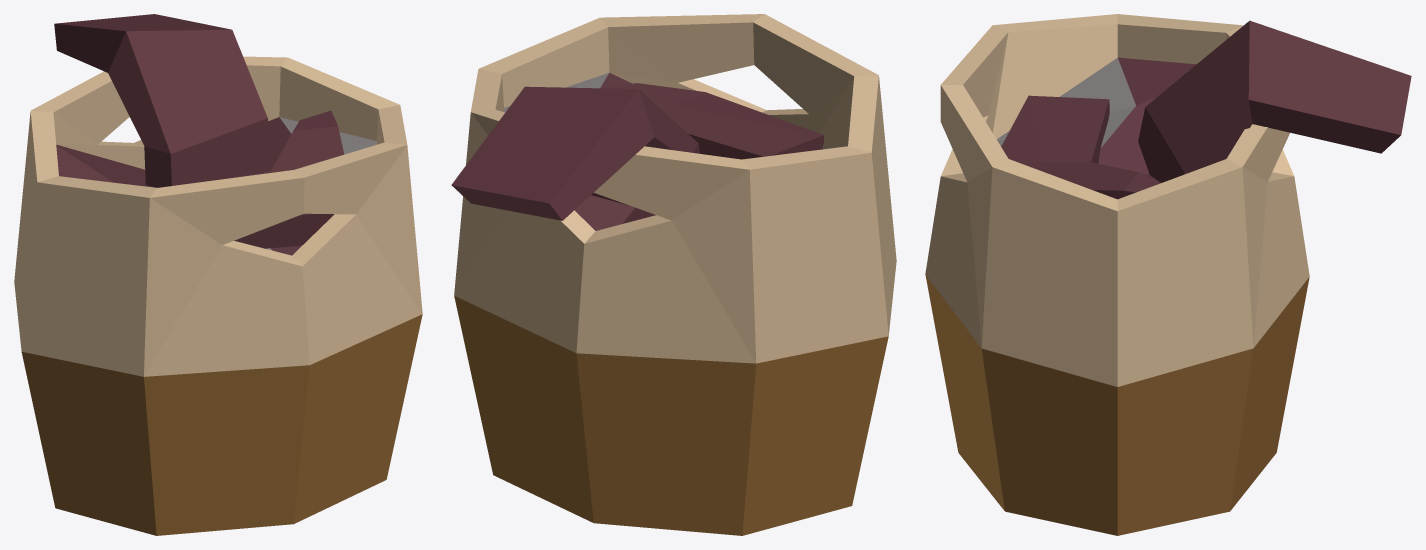
File: bag-storage-clothes.fbx
3 views of the same model, side by side, from view 1: azimuth 30°, elevation 25°; view 2: azimuth 150°, elevation 25°; view 3: azimuth 270°, elevation 25° (orthographic). The views are drawn at different scales.
Visible parts, largest first — view 1: bag-storage-clothes; view 2: bag-storage-clothes; view 3: bag-storage-clothes.
Boxes of the visible parts, left/top/right/bottom form: bag-storage-clothes: left=14, top=14, right=422, bottom=535; bag-storage-clothes: left=451, top=14, right=896, bottom=535; bag-storage-clothes: left=925, top=14, right=1411, bottom=535.
Size of the model in its own units: 0.5121 by 0.495 by 0.5226.
